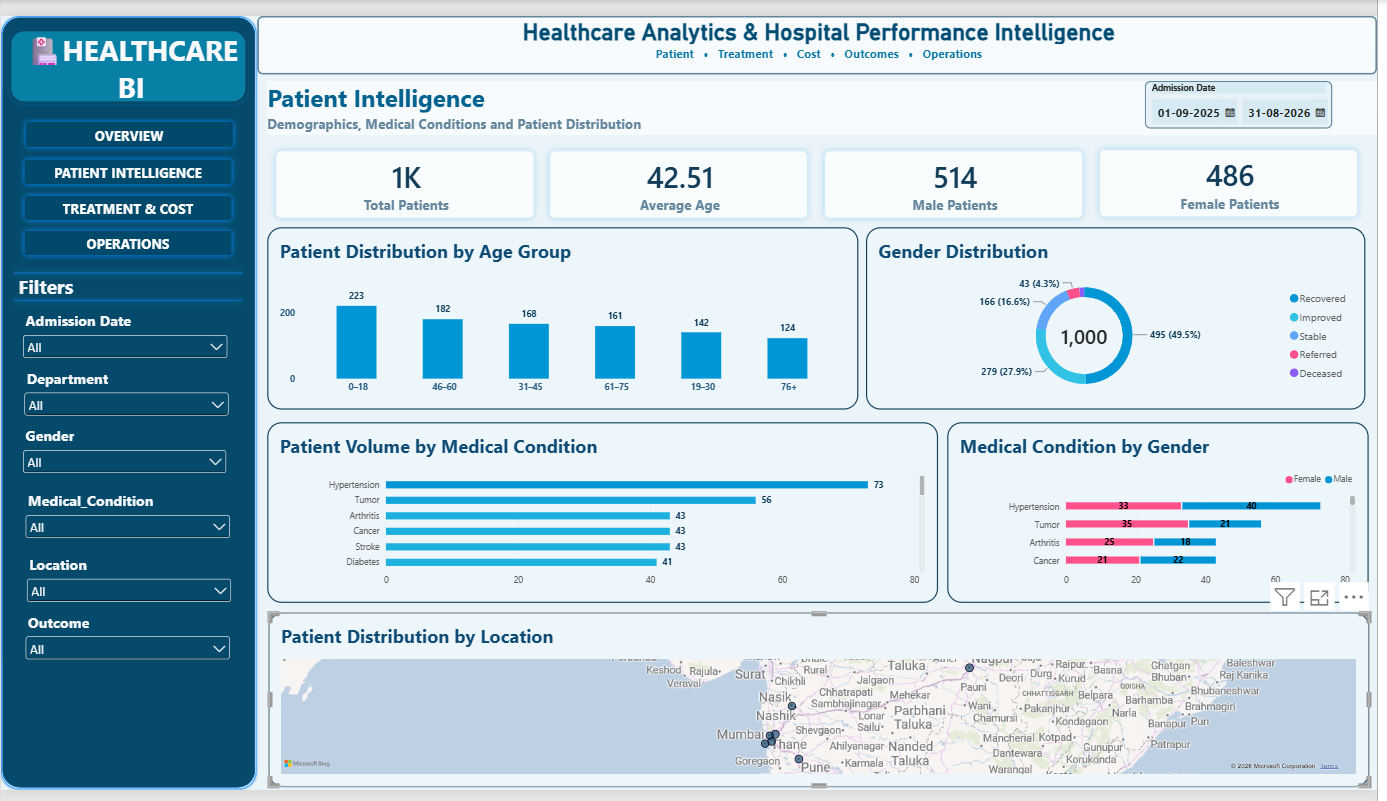

Layout of this report page (visuals, bound fields, positions):
{"tool":"powerbi","page":{"name":"Patient Intelligence","canvas":[1920,1080],"ordinal":1},"visuals":[{"type":"shape","box":[0,0.8,357.2,1079.2],"z":0},{"type":"textbox","title":"  Healthcare Analytics & Hospital Performance Intelligence","box":[357.2,0,1562.8,82],"z":1000},{"type":"textbox","title":"🏥HEALTHCARE  BI","box":[10,17.1,334.3,105.7],"z":2000},{"type":"actionButton","title":"OVERVIEW","box":[25.7,140,305.7,51.4],"z":3000},{"type":"actionButton","box":[24.3,191.4,305.7,51.4],"z":4000},{"type":"actionButton","box":[24.3,291.4,305.7,51],"z":5000},{"type":"actionButton","box":[24.3,242.9,305.7,51],"z":6000},{"type":"shape","box":[10,331.4,334.3,54.3],"z":7000},{"type":"textbox","title":"Filters","box":[24.3,358.6,124.3,38.6],"z":8000},{"type":"shape","box":[10,370,334.3,54.3],"z":9000},{"type":"slicer","fields":{"Values":["Healthcare Analytics.Admission_Date"]},"box":[25.7,411.4,294.3,67.1],"z":10000},{"type":"slicer","fields":{"Values":["Healthcare Analytics.Department"]},"box":[27.9,491.9,294.3,68.6],"z":11000},{"type":"slicer","fields":{"Values":["Healthcare Analytics.Gender"]},"box":[26.2,572.1,293,69.8],"z":12000},{"type":"slicer","fields":{"Values":["Healthcare Analytics.Medical_Condition"]},"box":[29.7,662.8,294.8,73.3],"z":13000},{"type":"slicer","fields":{"Values":["Healthcare Analytics.Location"]},"box":[31.4,751.7,294.8,80.2],"z":14000},{"type":"slicer","fields":{"Values":["Healthcare Analytics.Outcome"]},"box":[29.7,832,294.8,69.8],"z":15000},{"type":"textbox","title":"Patient Intelligence","box":[371.9,90.4,1548.1,75],"z":16000},{"type":"cardVisual","fields":{"Data":["Healthcare Analytics.Total Patients"]},"box":[372,176,384,118],"z":17000},{"type":"slicer","fields":{"Values":["Healthcare Analytics.Admission_Date"]},"box":[1595.9,90.7,261.6,66.3],"z":18000},{"type":"cardVisual","fields":{"Data":["Healthcare Analytics.Average Age"]},"box":[754,176,384,118],"z":19000},{"type":"cardVisual","fields":{"Data":["Healthcare Analytics.Female Patients"]},"box":[1521.7,175,384,118],"z":20000},{"type":"cardVisual","fields":{"Data":["Healthcare Analytics.Male Patients"]},"box":[1138,176,384,118],"z":21000},{"type":"clusteredColumnChart","title":"Patient Distribution by Age Group","fields":{"Category":["Healthcare Analytics.Age Group"],"Y":["Healthcare Analytics.Total Patients"]},"box":[371.1,295.5,824.6,254.3],"z":22000},{"type":"donutChart","title":"Gender Distribution","fields":{"Category":["Healthcare Analytics.Outcome"],"Y":["CountNonNull(Healthcare Analytics.Patient_ID)"]},"box":[1207.6,294.8,696.8,254.6],"z":23000},{"type":"clusteredBarChart","title":"Patient Volume by Medical Condition","fields":{"Category":["Healthcare Analytics.Medical_Condition"],"Y":["Healthcare Analytics.Total Patients"]},"box":[372,566,936,252],"z":24000},{"type":"barChart","title":"Medical Condition by Gender","fields":{"Category":["Healthcare Analytics.Medical_Condition"],"Series":["Healthcare Analytics.Gender"],"Y":["Healthcare Analytics.Total Patients"]},"box":[1320,566,588,252],"z":25000},{"type":"map","title":"Patient Distribution by Location","fields":{"Category":["Healthcare Analytics.Location"],"Size":["Healthcare Analytics.Total Patients"]},"box":[374,832,1536,244],"z":27000}]}

Visuals, with their boxes in screenshot pixels (x1, y1, x2, y2), scaled from the page's 1920x1080 canvas onto the 1387x801 screenshot:
shape: (0,1,258,800)
"  Healthcare Analytics & Hospital Performance Intelligence" textbox: (258,0,1386,61)
"🏥HEALTHCARE  BI" textbox: (7,13,249,91)
"OVERVIEW" actionButton: (19,104,239,142)
actionButton: (18,142,238,180)
actionButton: (18,216,238,254)
actionButton: (18,180,238,218)
shape: (7,246,249,286)
"Filters" textbox: (18,266,107,295)
shape: (7,274,249,315)
slicer - Healthcare Analytics.Admission_Date: (19,305,231,355)
slicer - Healthcare Analytics.Department: (20,365,233,416)
slicer - Healthcare Analytics.Gender: (19,424,231,476)
slicer - Healthcare Analytics.Medical_Condition: (21,492,234,546)
slicer - Healthcare Analytics.Location: (23,558,236,617)
slicer - Healthcare Analytics.Outcome: (21,617,234,669)
"Patient Intelligence" textbox: (269,67,1386,123)
cardVisual - Healthcare Analytics.Total Patients: (269,131,546,218)
slicer - Healthcare Analytics.Admission_Date: (1153,67,1342,116)
cardVisual - Healthcare Analytics.Average Age: (545,131,822,218)
cardVisual - Healthcare Analytics.Female Patients: (1099,130,1377,217)
cardVisual - Healthcare Analytics.Male Patients: (822,131,1099,218)
"Patient Distribution by Age Group" clusteredColumnChart: (268,219,864,408)
"Gender Distribution" donutChart: (872,219,1376,407)
"Patient Volume by Medical Condition" clusteredBarChart: (269,420,945,607)
"Medical Condition by Gender" barChart: (954,420,1378,607)
"Patient Distribution by Location" map: (270,617,1380,798)
